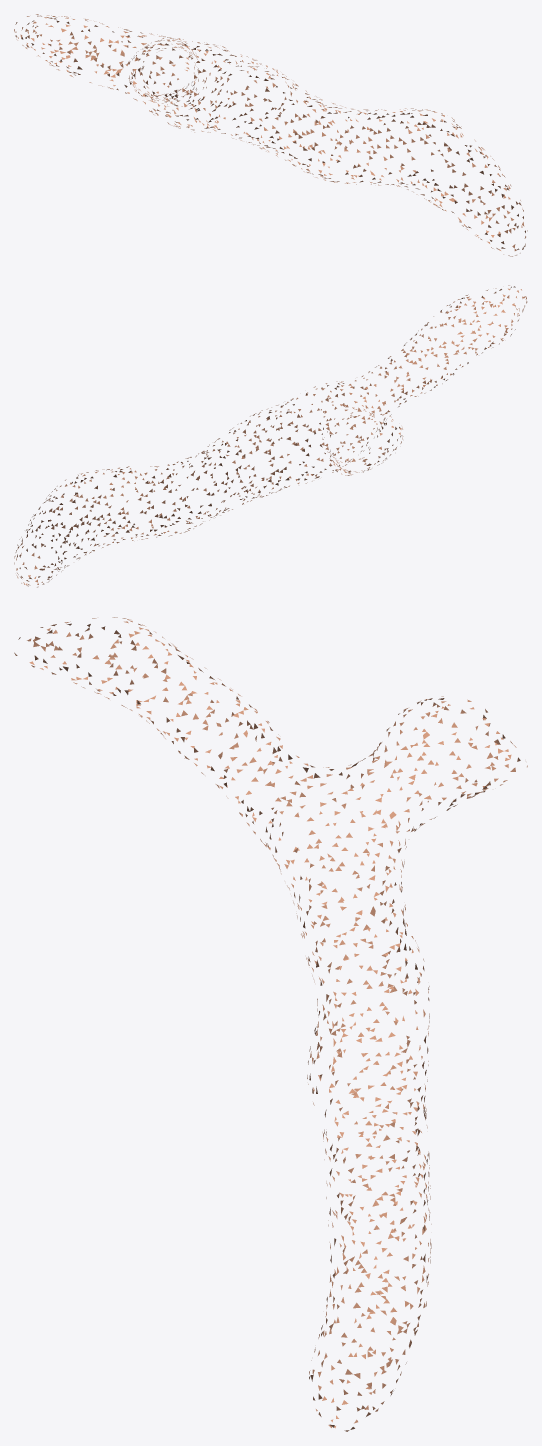
File: morph_004.glb
3 views of the same model, one above another, from view 1: azimuth 30°, elevation 25°; view 2: azimuth 150°, elevation 25°; view 3: azimuth 270°, elevation 25° (orthographic). The views are drawn at different scales.
Size of the model in its own units: 83.04 by 62.51 by 56.35.
